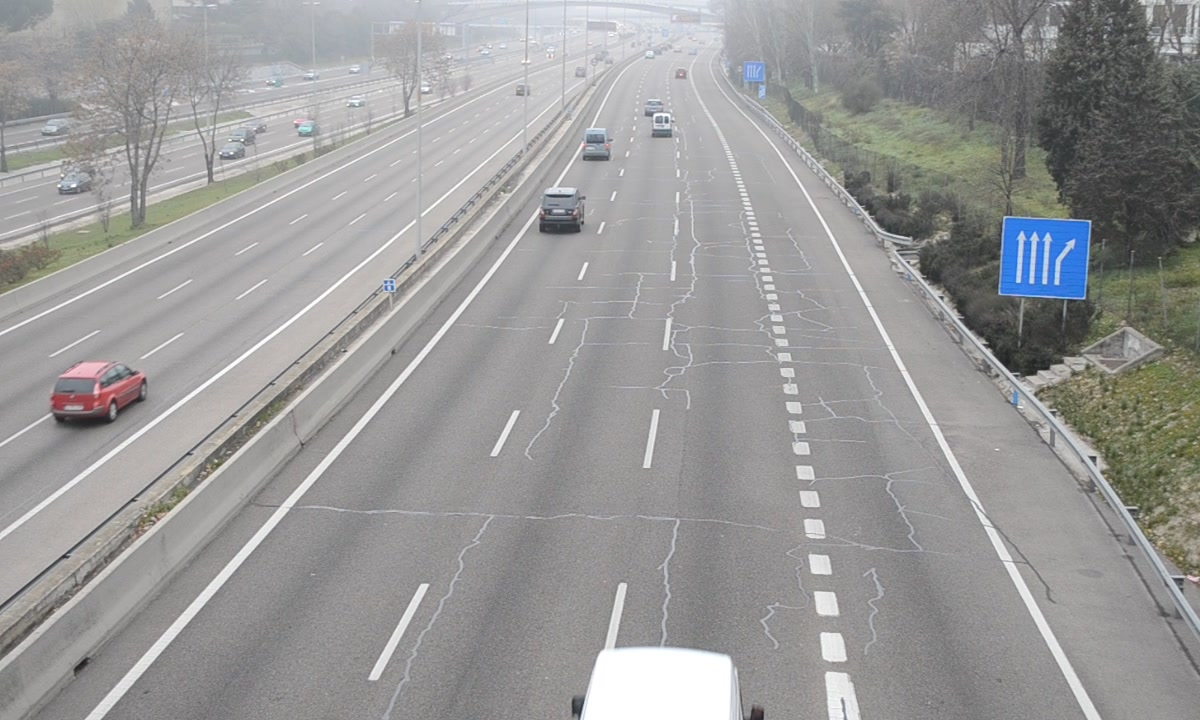car: (539, 186, 584, 230)
van: (582, 126, 612, 162)
